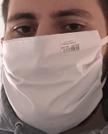with_mask: (2, 1, 108, 134)
